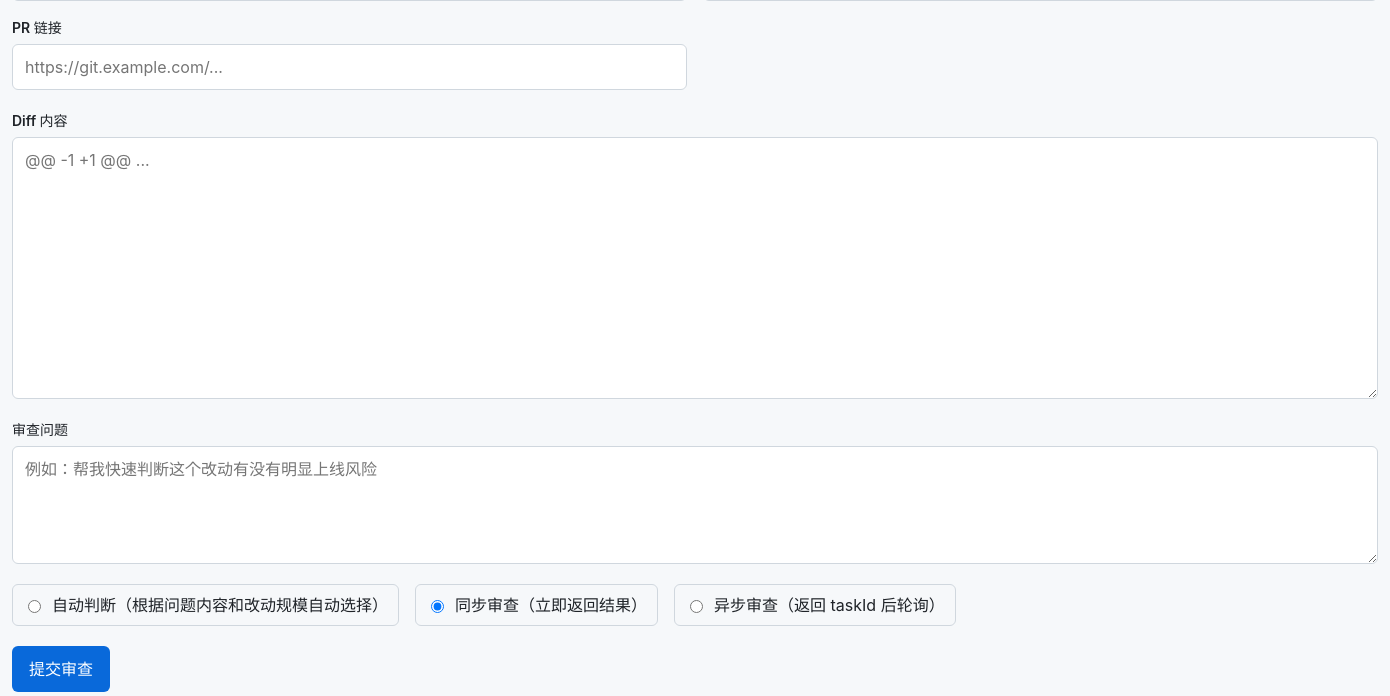
Test: ReviewSubmitForm › requires question when auto mode is selected
This screenshot has width=1390, height=696.
Click the radio button labelled "自动判断（根据问题内容和改动规模自动选择）" at (34, 606), box [28,600,41,613]
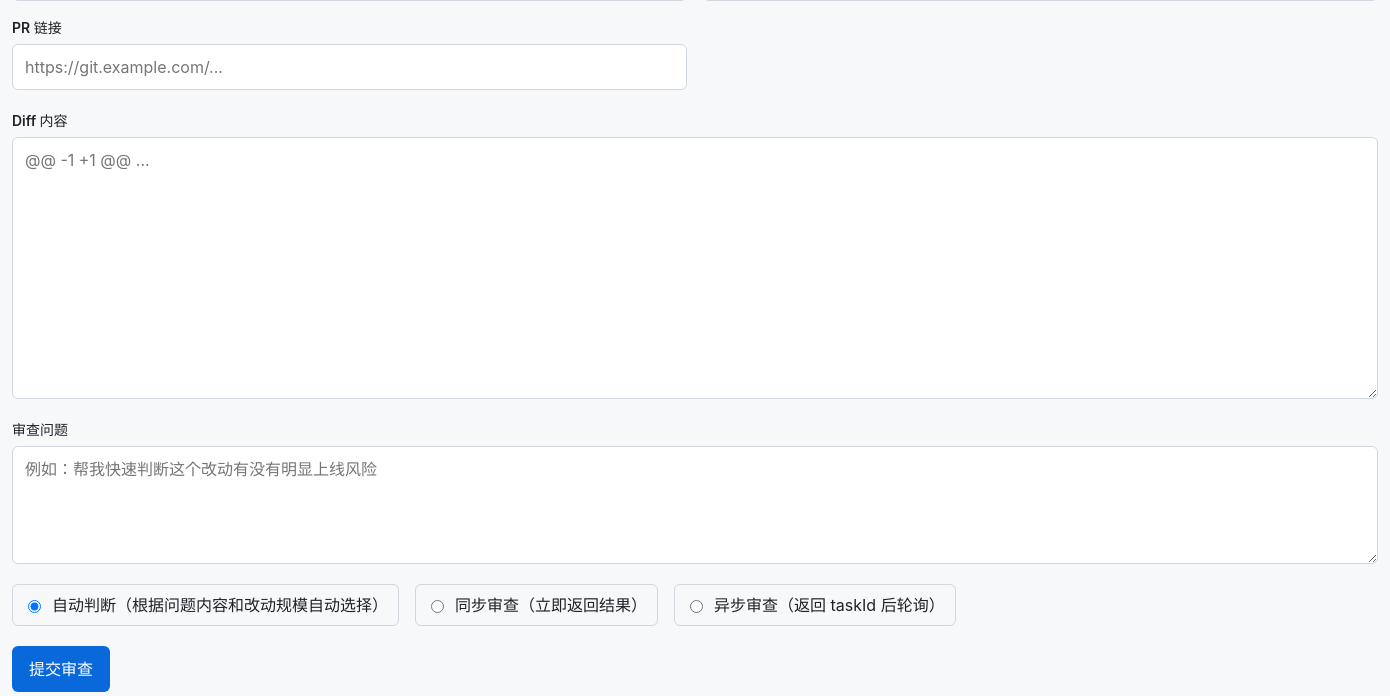
Click the button "提交审查" at (61, 669), box [12,646,110,692]
(page scrolled)
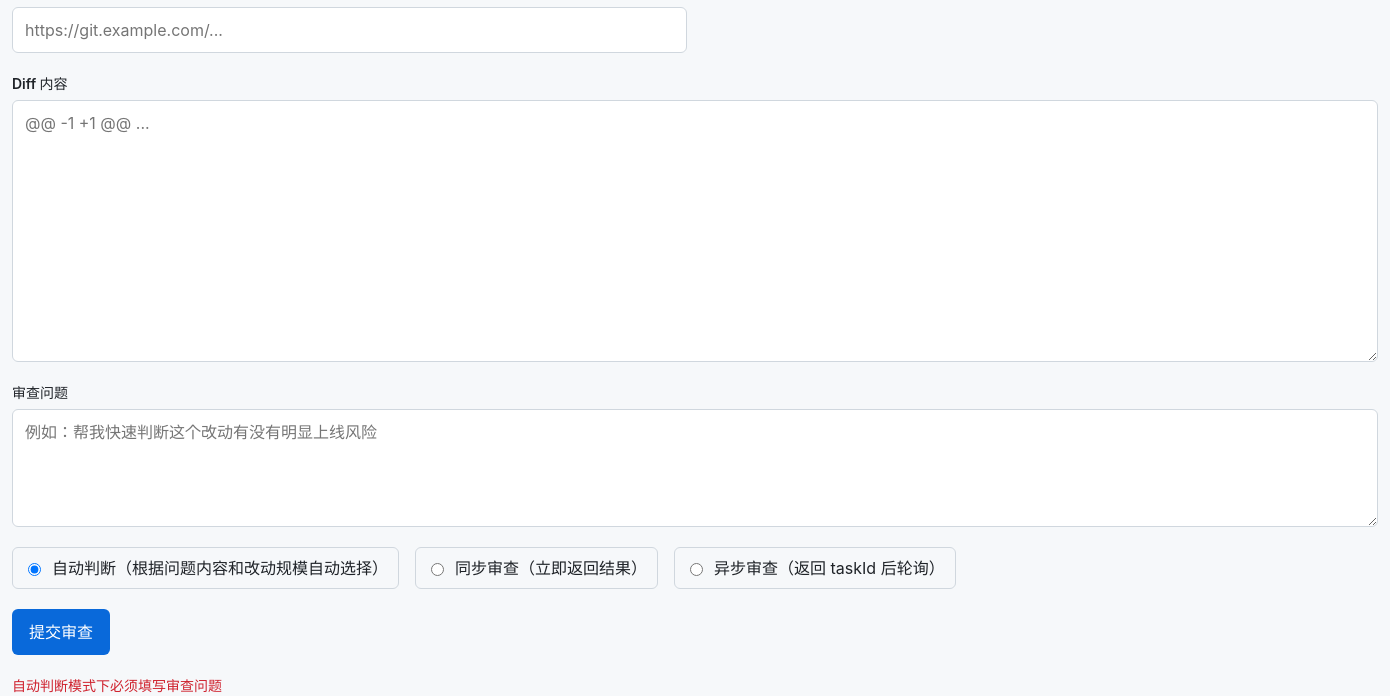
Expected: the text "自动判断模式下必须填写审查问题" is shown, [12,677,222,694]
